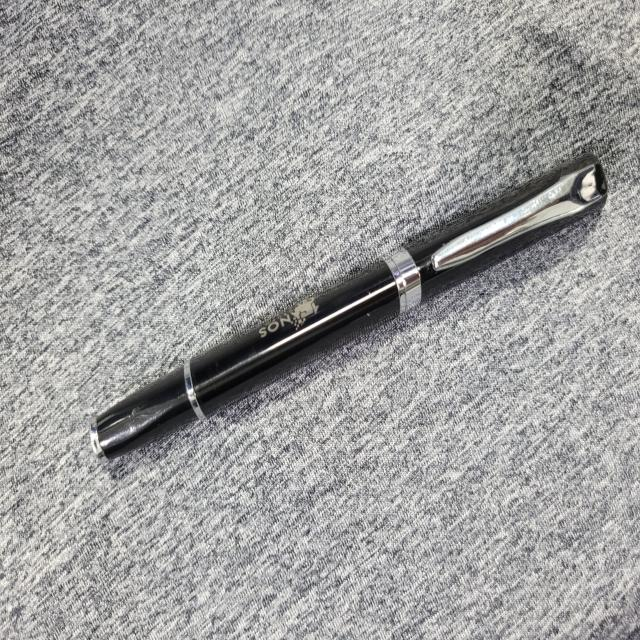caneta: (93, 147, 616, 477)
